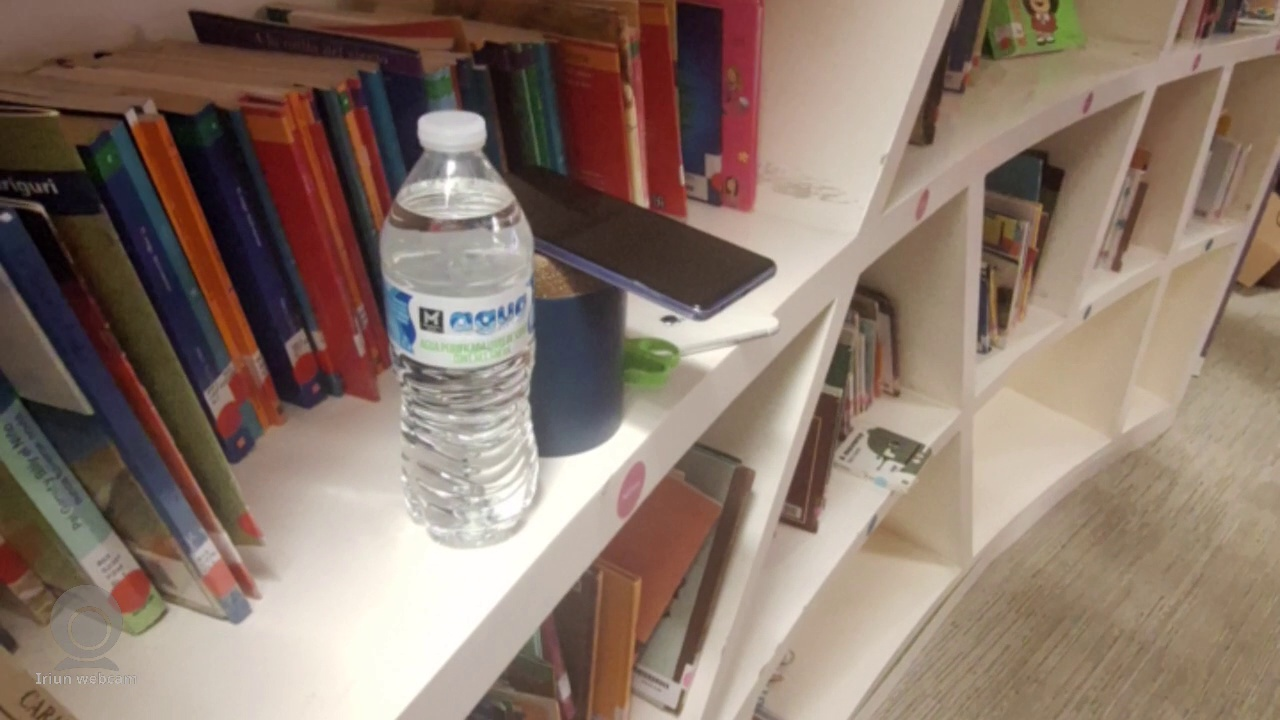botella: (382, 109, 542, 551)
